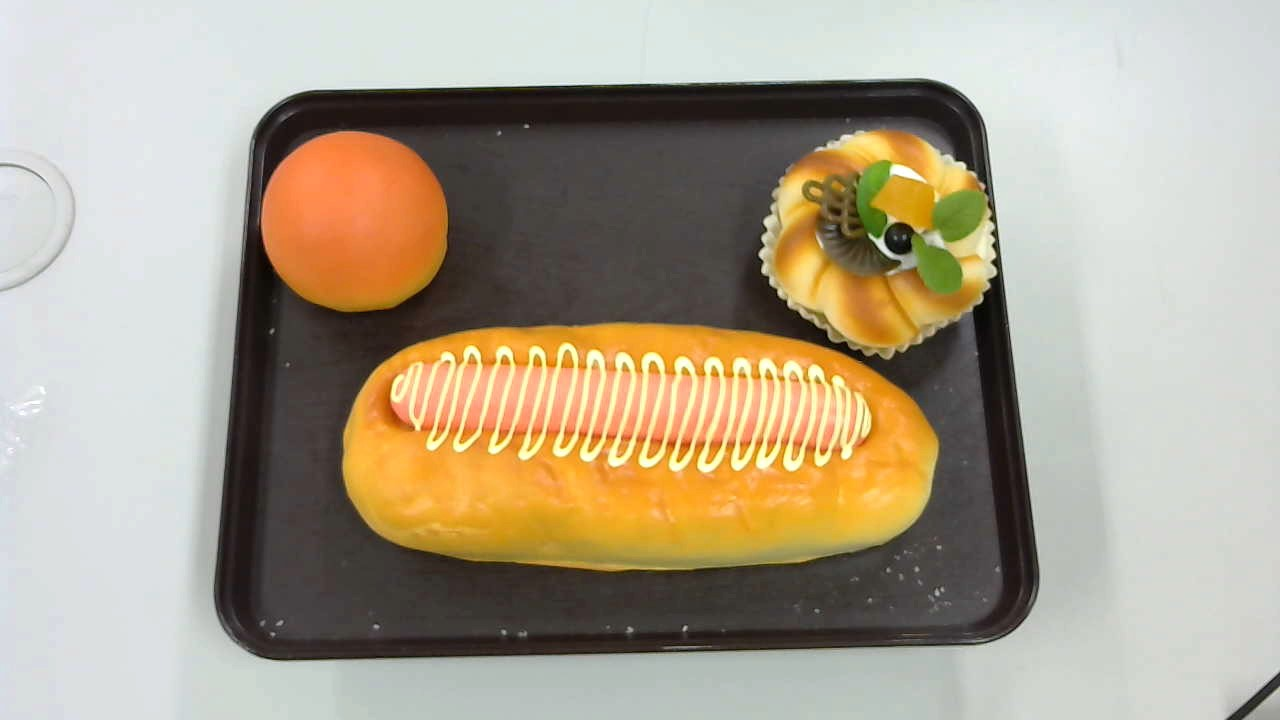bun: (259, 131, 448, 311)
fruit tart: (758, 129, 999, 358)
hot dog: (340, 322, 939, 573)
